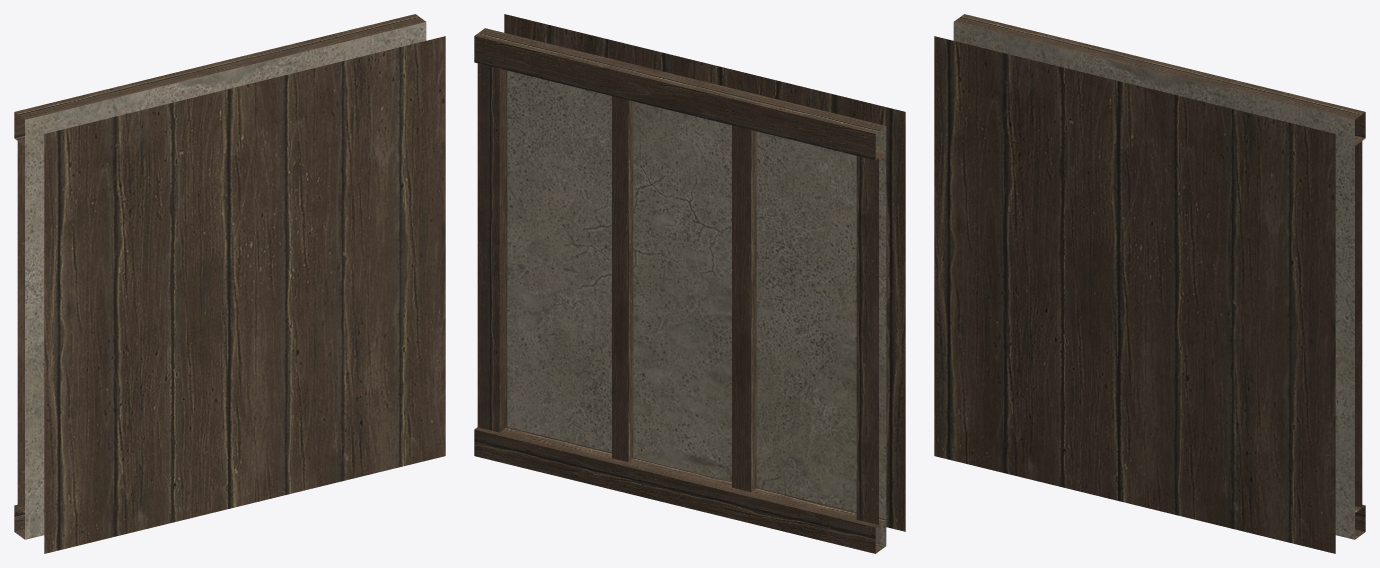
File: ARC1010248.fbx
3 renders of one model, left to right at view 1: azimuth 30°, elevation 25°; view 2: azimuth 150°, elevation 25°; view 3: azimuth 330°, elevation 25°, orthographic.
Visible parts, largest first — view 1: smARC1010248; view 2: smARC1010248; view 3: smARC1010248.
Part boxes in pixels (<box>): smARC1010248: <box>14,14,445,553</box>; smARC1010248: <box>474,14,905,553</box>; smARC1010248: <box>934,14,1365,553</box>.
Bounding box in the file's own units: 268 × 268 × 34.9.
1 material, 1 textured.
